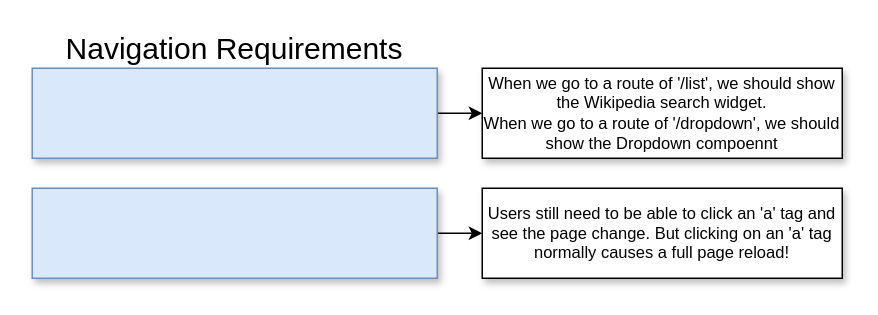
This 878x315 diagram has some shape labels left out. Each missing label, with the centre of its shape:
Need to be able to change the URL without causing a full page reload: the point at 235,235
Need to hide/show components based on the URL: the point at 235,115
